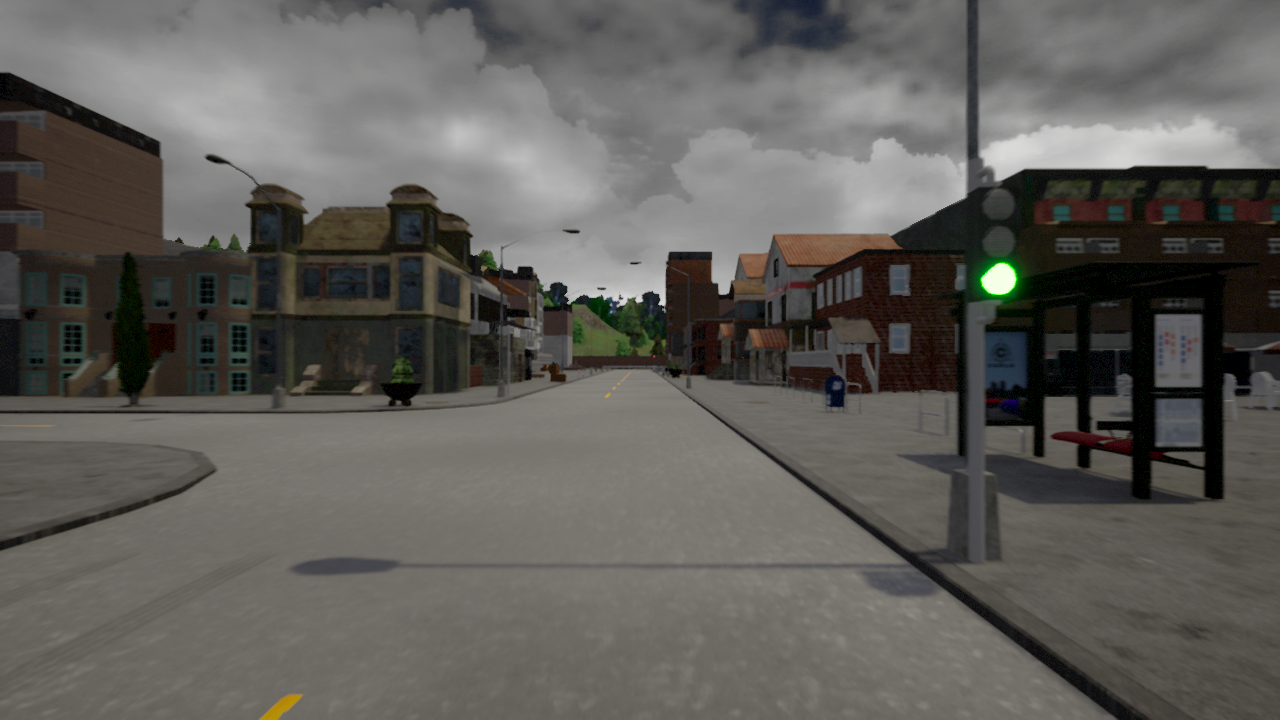green: (966, 183, 1022, 300)
